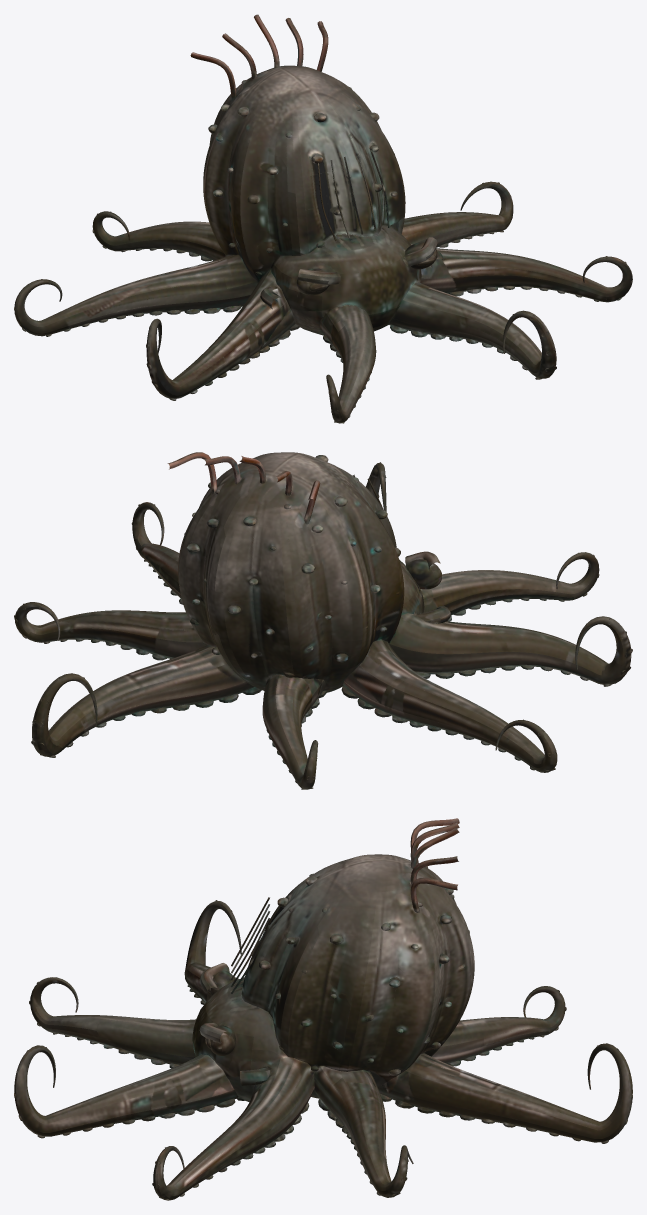
File: abyssal-elder.glb
The picture shows the model from 3 angles, top to bottom: view 1: azimuth 30°, elevation 25°; view 2: azimuth 150°, elevation 25°; view 3: azimuth 270°, elevation 25°; orthographic projection. The views are drawn at different scales.
Parts seen in each view (by area): view 1: 沉睡古神 · Lux3D 写实材质; view 2: 沉睡古神 · Lux3D 写实材质; view 3: 沉睡古神 · Lux3D 写实材质.
Boxes of the visible parts, left/top/right/bottom form: 沉睡古神 · Lux3D 写实材质: left=14, top=14, right=632, bottom=423; 沉睡古神 · Lux3D 写实材质: left=14, top=452, right=632, bottom=789; 沉睡古神 · Lux3D 写实材质: left=14, top=818, right=632, bottom=1200.
Size of the model in its own units: 22.65 by 10.84 by 22.78.
Materials: 1 (1 with a texture image).
